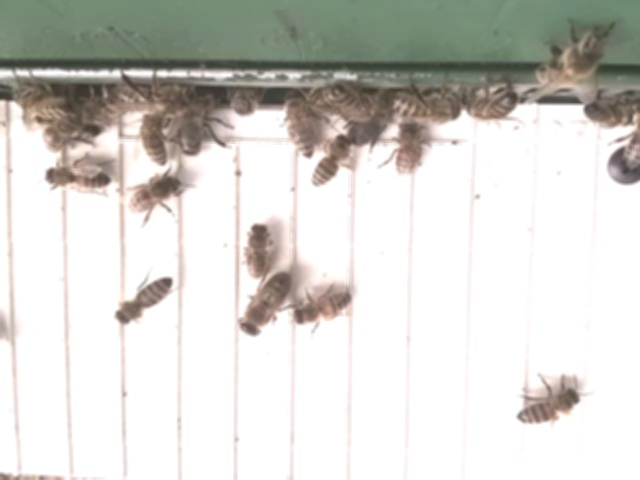Drone: (237, 271, 294, 341)
Worker: (112, 273, 174, 329), (513, 384, 581, 429), (290, 289, 355, 328), (126, 173, 182, 218), (309, 132, 350, 192), (282, 91, 317, 161), (42, 161, 112, 196), (390, 92, 462, 126), (138, 109, 171, 169), (241, 224, 272, 283), (391, 122, 422, 181)
